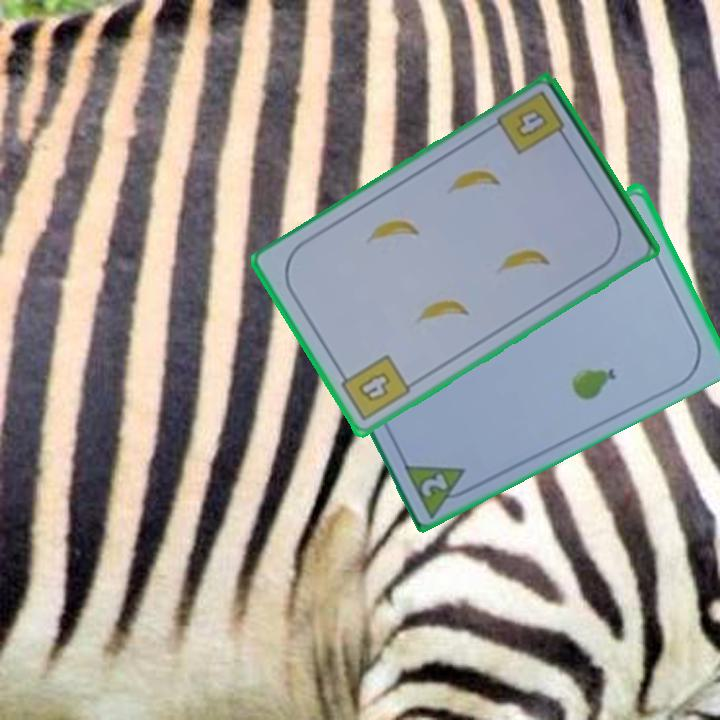2p: (417, 469, 451, 500)
4b: (334, 351, 414, 424), (493, 87, 572, 158)
